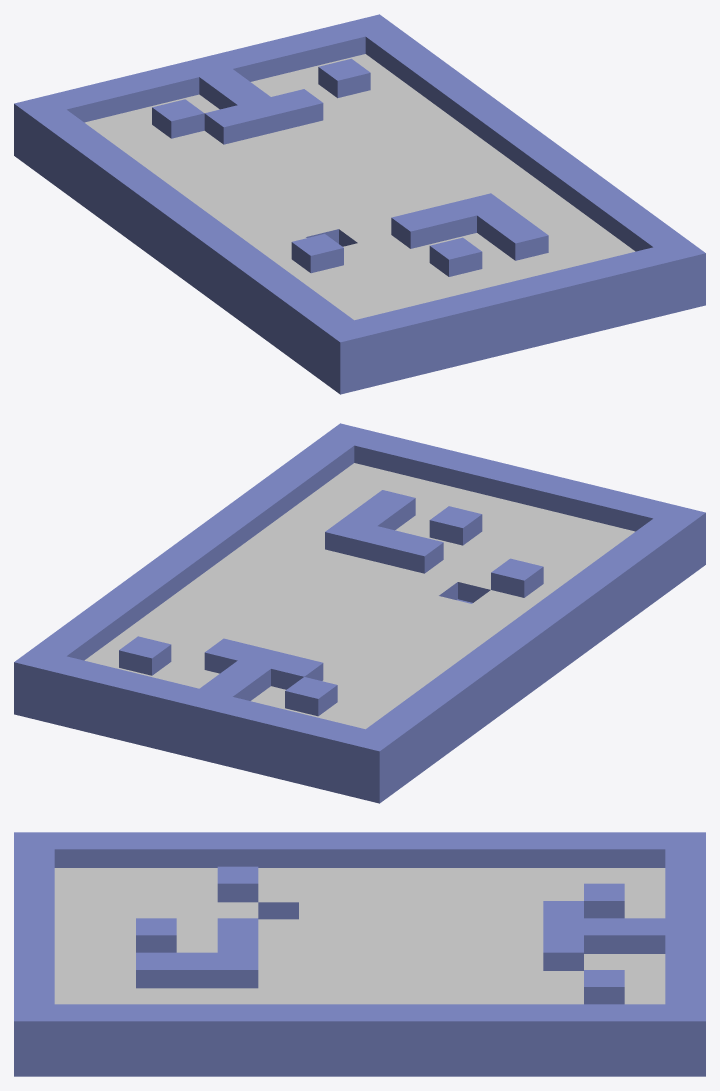
Rendered from 065_platform.fbx.
3 renders of one model, top to bottom at view 1: azimuth 30°, elevation 25°; view 2: azimuth 150°, elevation 25°; view 3: azimuth 270°, elevation 25°, orthographic. The views are drawn at different scales.
Visible parts, largest first — view 1: Grid; view 2: Grid; view 3: Grid.
Part boxes in pixels (x1,y1,x2,y2): Grid: [14, 14, 705, 394]; Grid: [14, 423, 705, 803]; Grid: [14, 832, 705, 1076].
Size of the model in its own units: 1100 by 150 by 1700.
